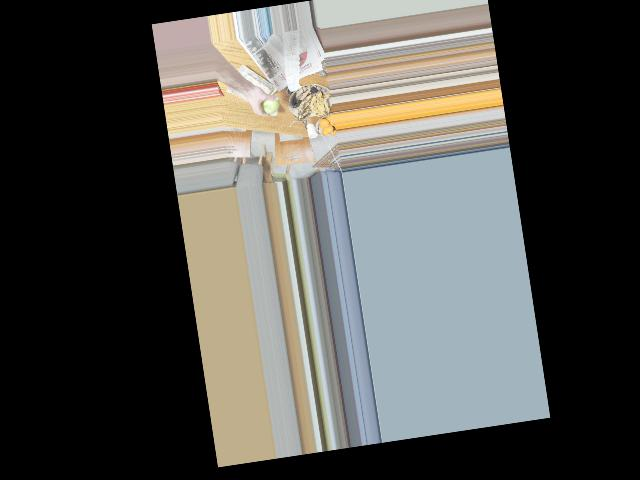apple: (255, 92, 281, 115)
